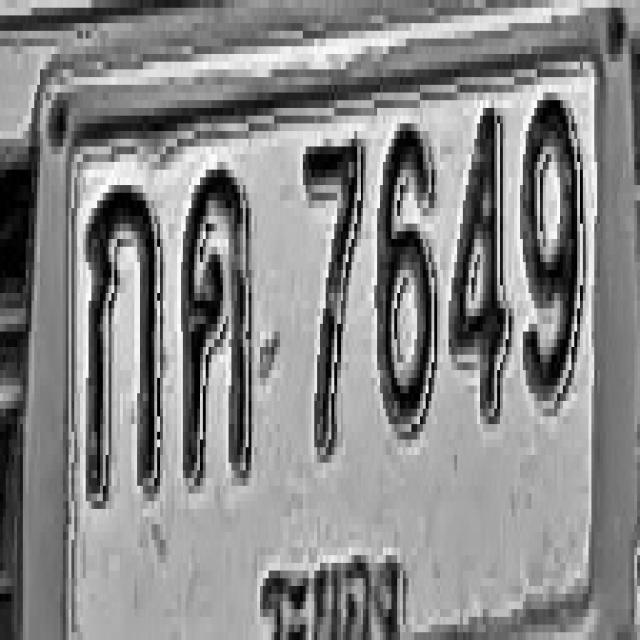10GorGai: (85, 178, 162, 502)
13KhorKhwai: (181, 162, 253, 486)
4: (448, 104, 508, 420)
6: (376, 116, 436, 432)
7: (303, 131, 363, 455)
9: (522, 92, 582, 401)
Rayong: (253, 521, 406, 640)
